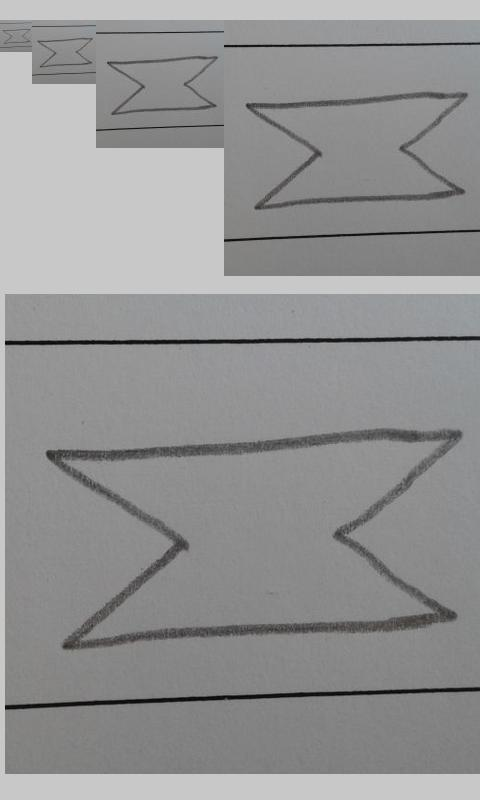edit_text: (45, 428, 462, 650), (246, 91, 467, 211), (106, 56, 217, 115), (37, 37, 94, 68), (2, 29, 30, 44)
